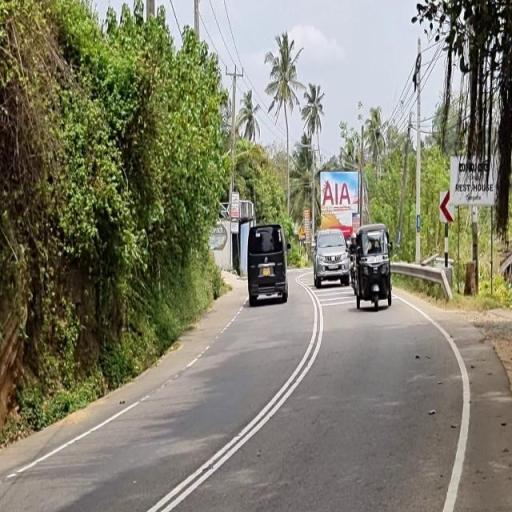double_white_line: (142, 286, 325, 510)
